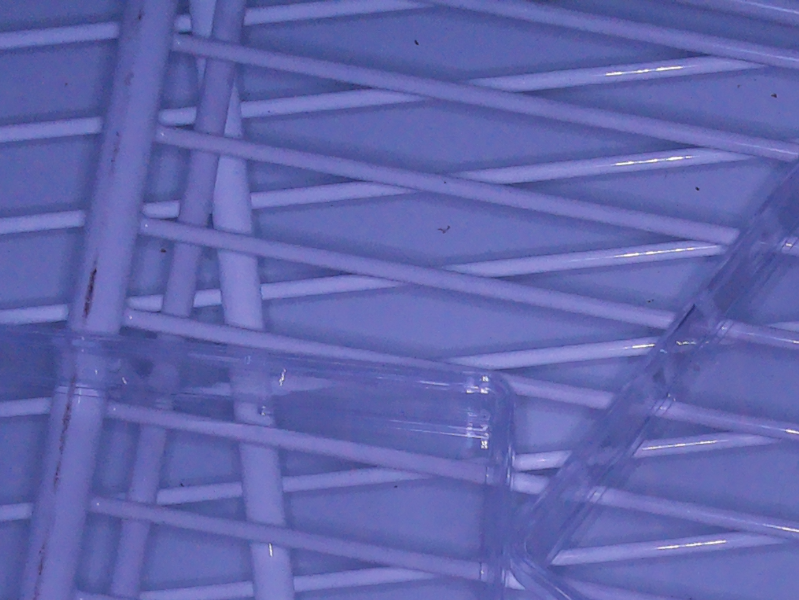plate: (1, 326, 518, 600), (515, 168, 799, 600)
